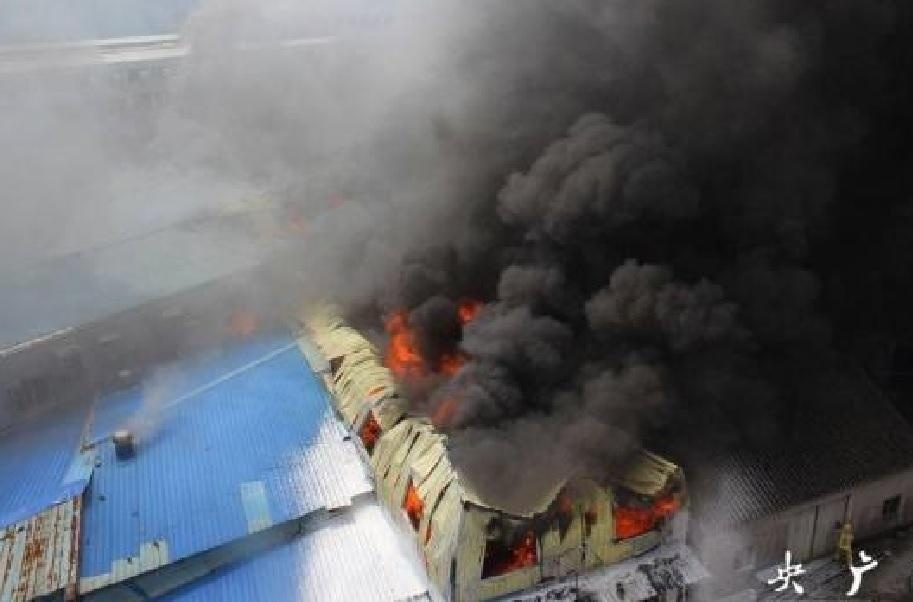fire: (384, 306, 473, 376), (613, 497, 675, 535), (492, 530, 540, 570), (359, 412, 383, 443), (402, 481, 424, 514)
